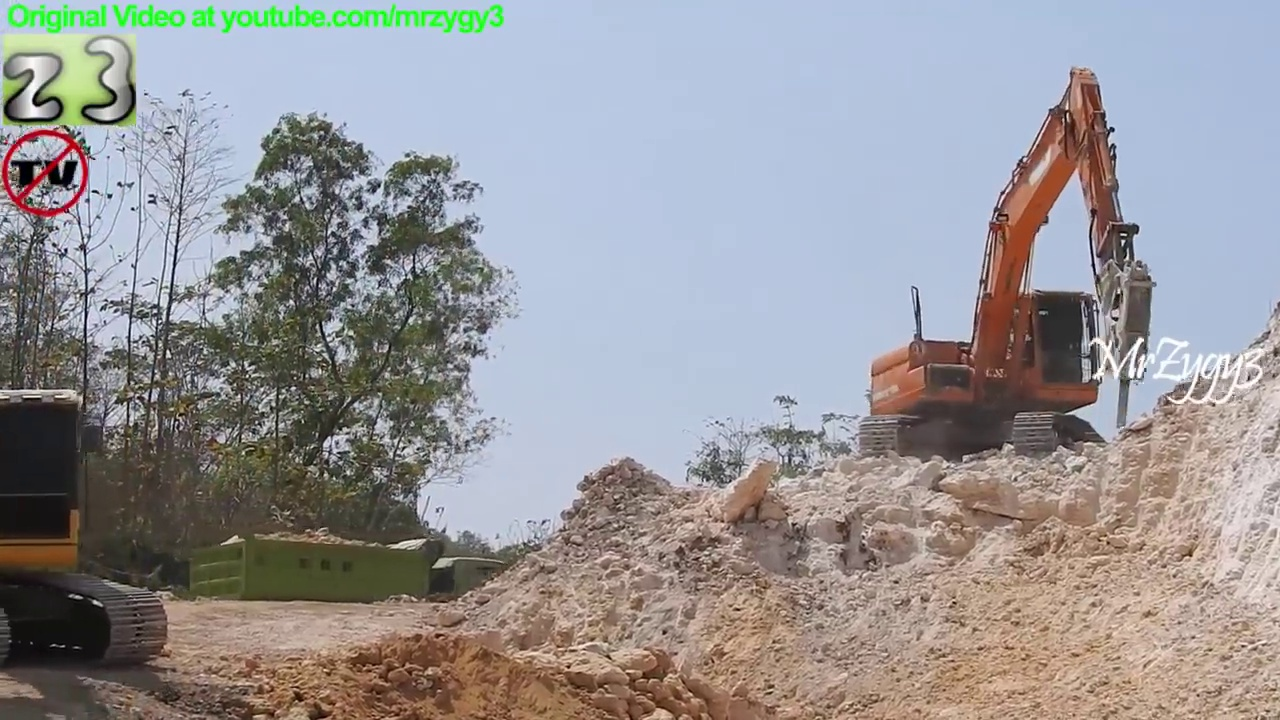excavator: (853, 64, 1165, 475), (1, 381, 174, 679)
truck: (185, 523, 526, 645)
